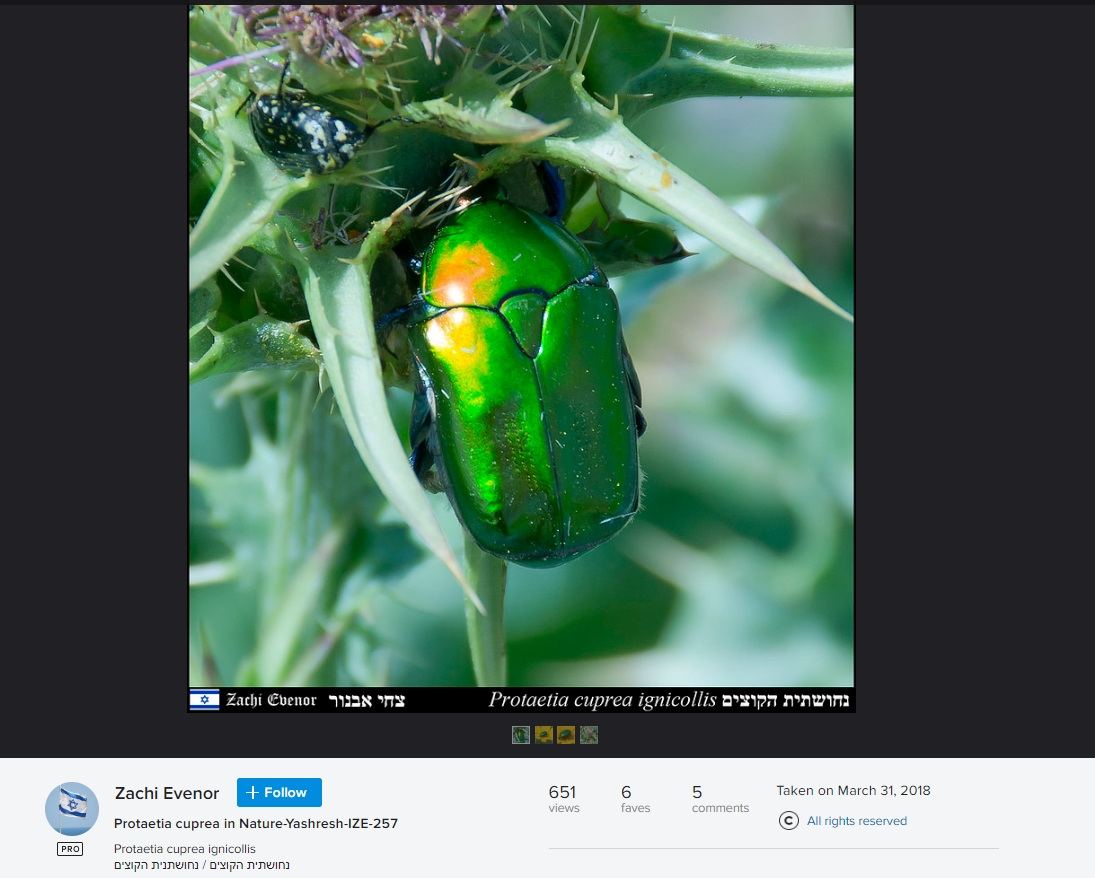Protaetia_cuprea_ignicollis: (391, 194, 661, 574)
